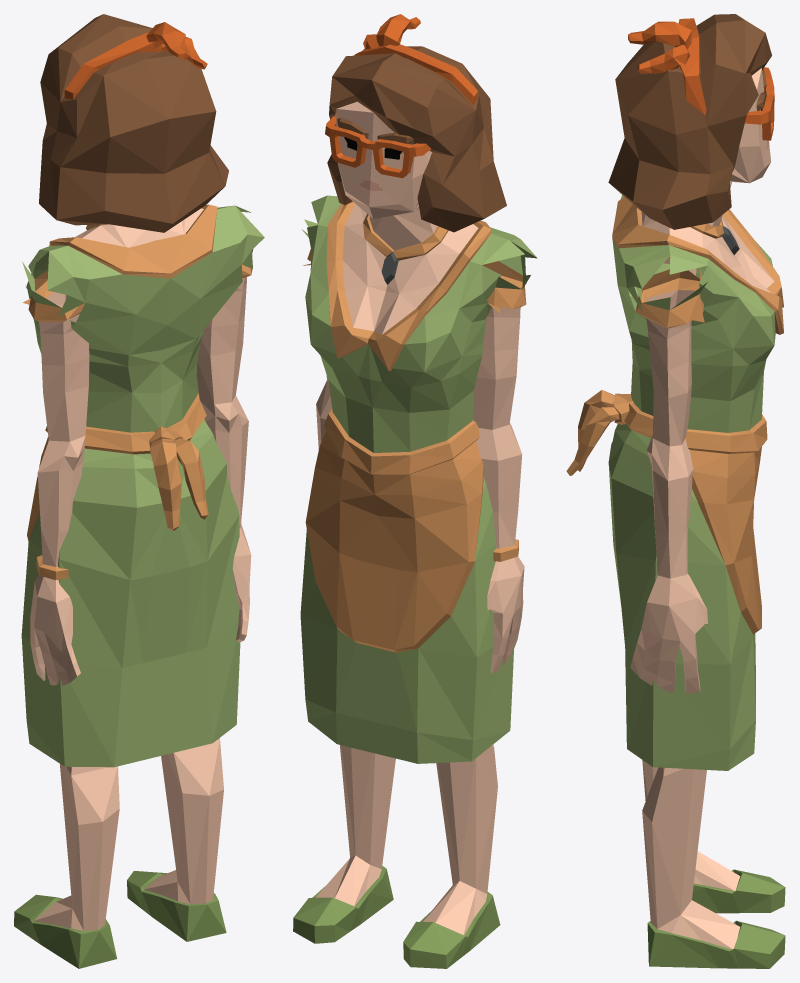
Rendered from Body_bass.obj.
3 renders of one model, left to right at view 1: azimuth 30°, elevation 25°; view 2: azimuth 150°, elevation 25°; view 3: azimuth 270°, elevation 25°, orthographic. The views are drawn at different scales.
Parts seen in each view (by area): view 1: Body_bass; view 2: Body_bass; view 3: Body_bass.
Part boxes in pixels (<box>): Body_bass: <box>14,14,264,968</box>; Body_bass: <box>293,14,537,968</box>; Body_bass: <box>566,14,785,968</box>.
Bounding box in the file's own units: 0.496 × 1.86 × 0.4009.
Materials: 1 (1 with a texture image).
